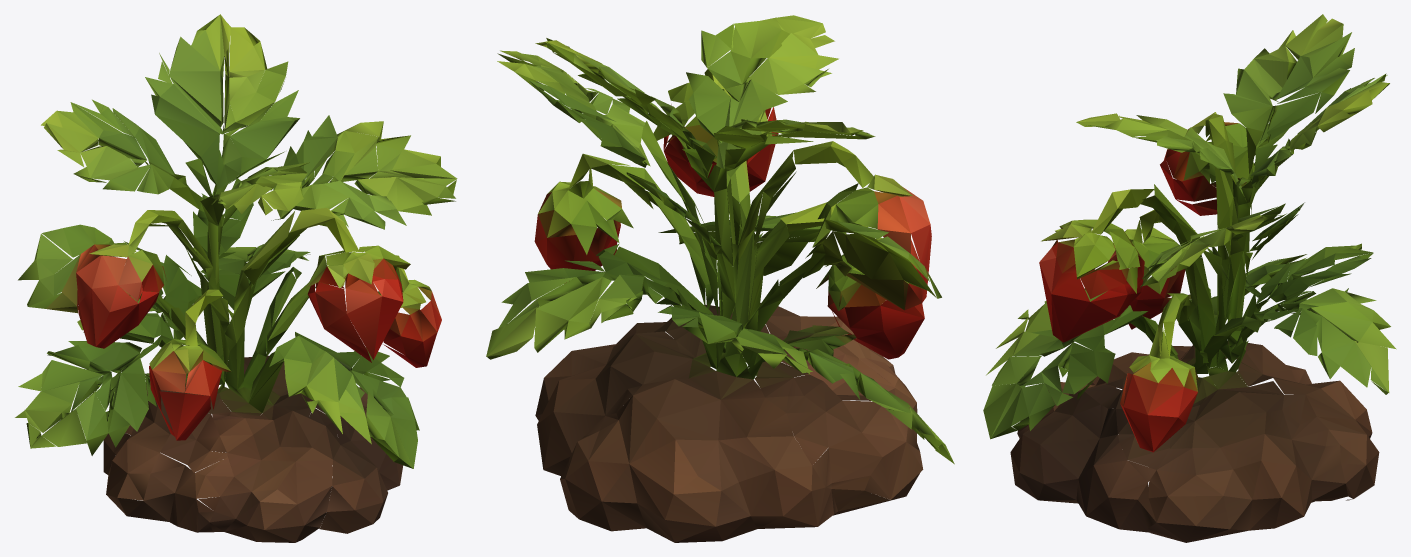
Rendered from building-garden-fruit.glb.
The picture shows the model from 3 angles, left to right: view 1: azimuth 30°, elevation 25°; view 2: azimuth 150°, elevation 25°; view 3: azimuth 270°, elevation 25°; orthographic projection. The views are drawn at different scales.
Parts seen in each view (by area): view 1: 0_garden-fruit; view 2: 0_garden-fruit; view 3: 0_garden-fruit.
Boxes of the visible parts, x1=… form: 0_garden-fruit: x1=15, y1=14, x2=457, y2=542; 0_garden-fruit: x1=486, y1=15, x2=954, y2=542; 0_garden-fruit: x1=983, y1=14, x2=1396, y2=542.
Size of the model in its own units: 0.35 by 0.3303 by 0.2951.
